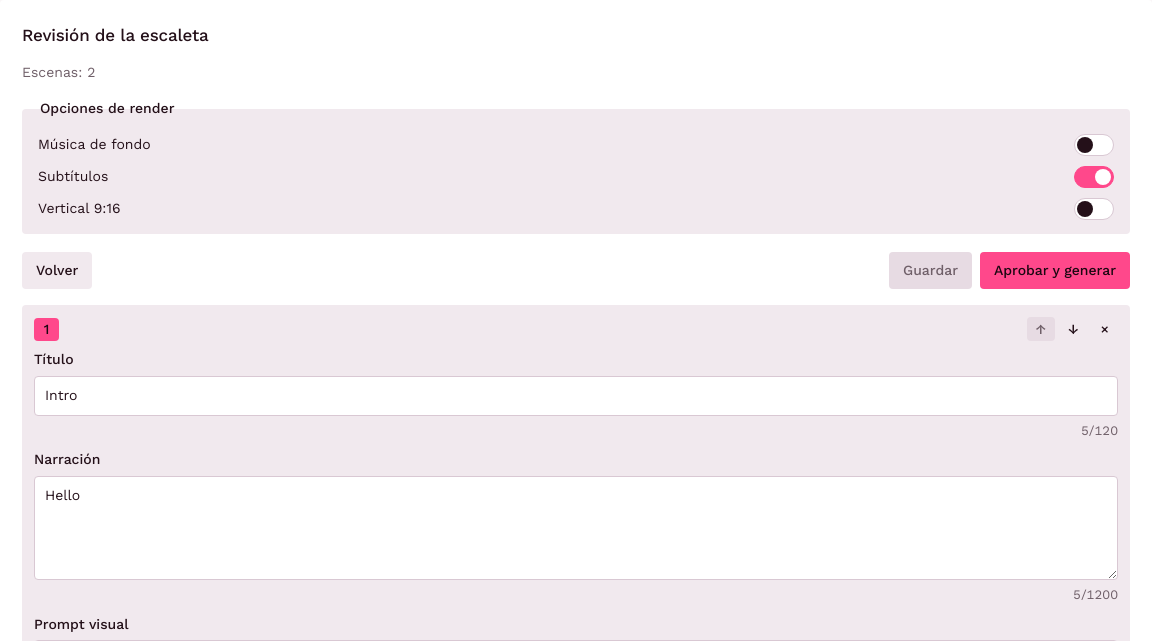
Test: ReviewPanel › Volver asks for confirmation in-app when dirty, and cancel keeps editing
Type "X" into the field labelled "Título" at (576, 396), box [34,376,1118,416]
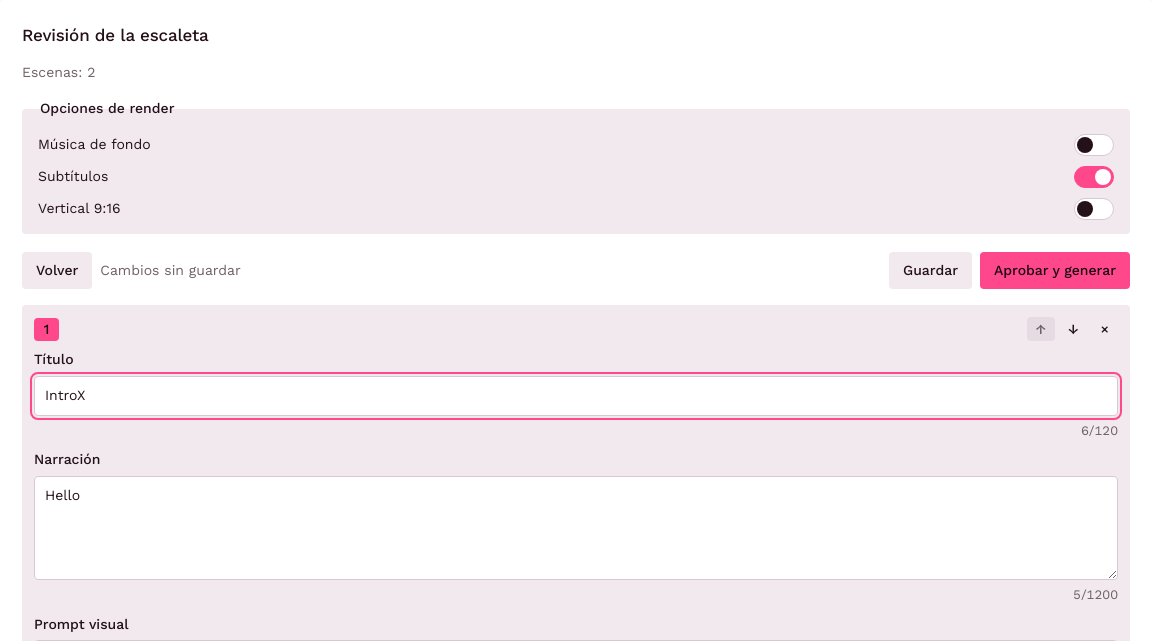
Click the button "Volver" at (57, 271), box [22,252,92,289]
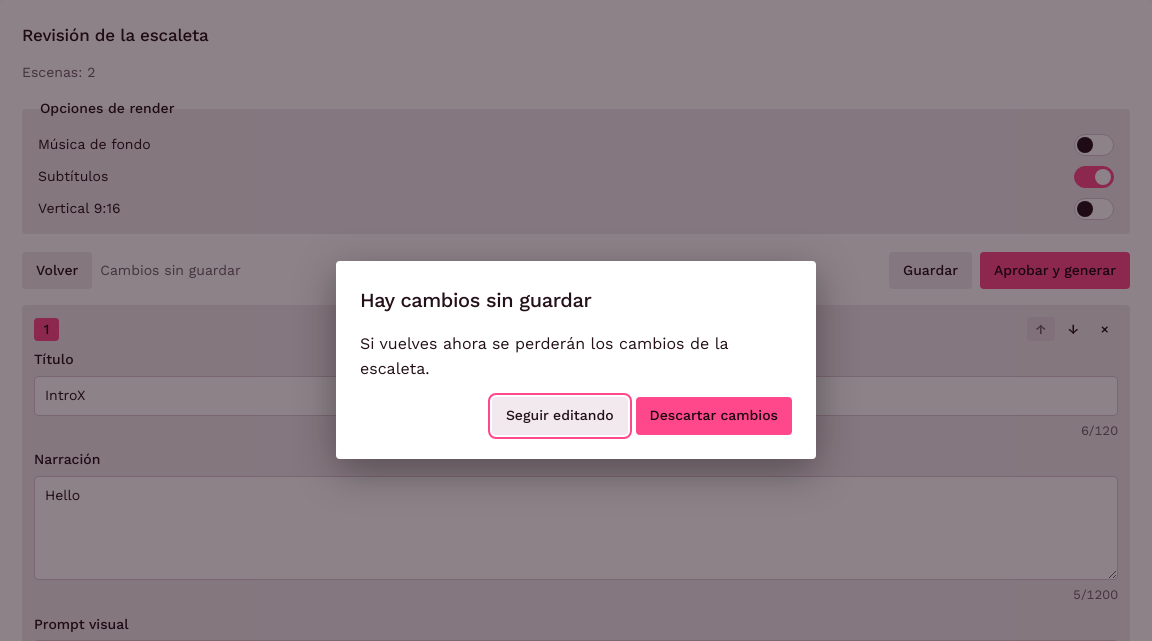
Click the button "Seguir editando" at (560, 416), box [492,398,628,435]
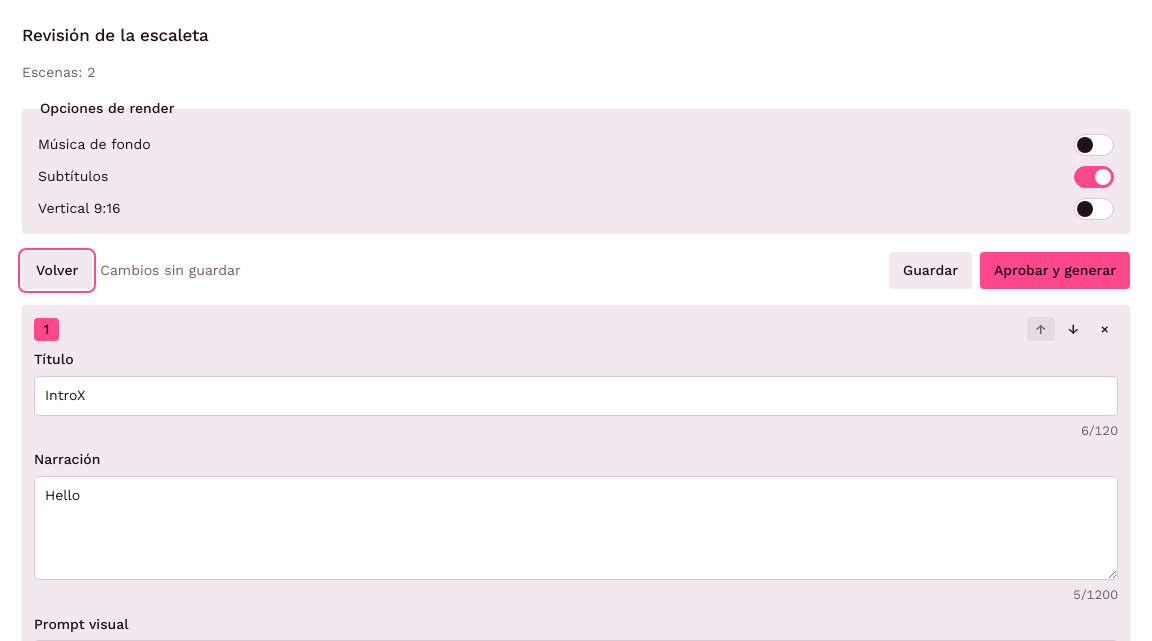
Now the field labelled "Título" holds "IntroX", box [34,376,1118,416]
Now the dialog is gone
